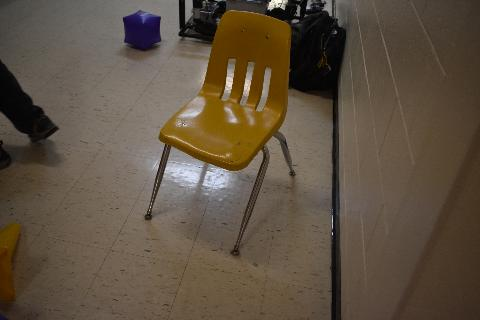cone: (0, 222, 22, 302)
cube: (124, 10, 162, 50)
